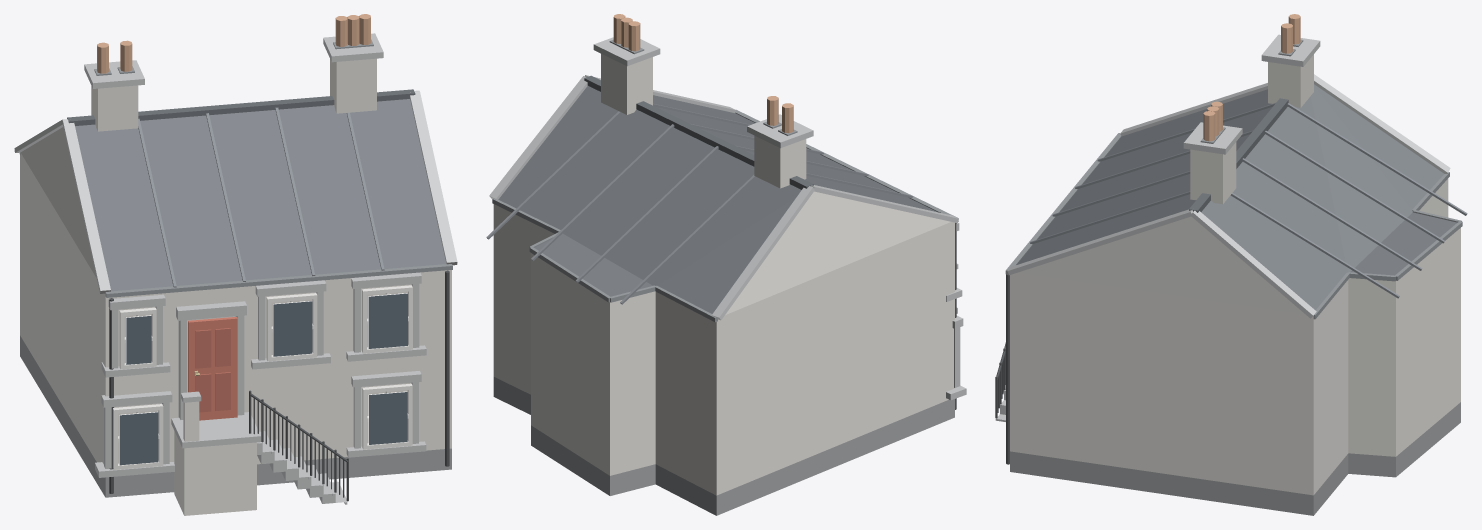
3 renders of one model, left to right at view 1: azimuth 30°, elevation 25°; view 2: azimuth 150°, elevation 25°; view 3: azimuth 270°, elevation 25°, orthographic. The views are drawn at different scales.
Parts seen in each view (by area): view 1: slate, harl, stone_band, plinth, frame, chim_render, pipe, lead, slate_lt, door_red, slate_dk, door_red_p (+6 smaller); view 2: harl, slate, plinth, stone_band, chim_render, slate_lt, lead, slate_dk, pot; view 3: harl, slate, plinth, stone_band, slate_lt, chim_render, lead, pot, pipe, slate_dk.
Part boxes in pixels (left/top/right/bottom): slate: left=75, top=99, right=446, bottom=291; harl: left=20, top=127, right=451, bottom=515; stone_band: left=14, top=33, right=457, bottom=504; plinth: left=20, top=335, right=451, bottom=497; frame: left=113, top=285, right=412, bottom=469; chim_render: left=91, top=58, right=376, bottom=131; pipe: left=109, top=270, right=449, bottom=501; lead: left=19, top=39, right=452, bottom=297; slate_lt: left=138, top=107, right=384, bottom=287; door_red: left=188, top=317, right=237, bottom=420; slate_dk: left=67, top=89, right=415, bottom=125; door_red_p: left=195, top=328, right=230, bottom=412; harl: left=493, top=191, right=954, bottom=495; slate: left=498, top=86, right=937, bottom=313; plinth: left=493, top=377, right=954, bottom=515; stone_band: left=489, top=37, right=966, bottom=400; chim_render: left=601, top=54, right=806, bottom=188; slate_lt: left=486, top=103, right=913, bottom=304; lead: left=492, top=39, right=958, bottom=322; slate_dk: left=584, top=75, right=813, bottom=189; pot: left=613, top=14, right=793, bottom=133; harl: left=1010, top=178, right=1460, bottom=495; slate: left=1016, top=84, right=1456, bottom=310; plinth: left=1010, top=402, right=1460, bottom=515; stone_band: left=995, top=34, right=1450, bottom=421; slate_lt: left=1030, top=103, right=1467, bottom=298; chim_render: left=1190, top=54, right=1313, bottom=204; lead: left=1005, top=39, right=1462, bottom=319; pot: left=1203, top=14, right=1300, bottom=141; pipe: left=995, top=274, right=1009, bottom=464; slate_dk: left=1189, top=98, right=1288, bottom=212.
Size of the model in its own units: 8.45 by 7.7 by 8.95.
